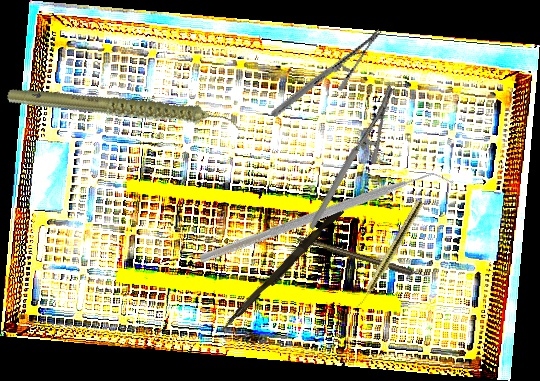Chopper: (197, 86, 456, 356)
Handpiece: (3, 40, 243, 182), (353, 198, 425, 312)
Hook Surgical: (297, 235, 432, 282)
Needle Holder: (273, 84, 428, 230), (269, 3, 384, 143)
Pusher: (219, 203, 345, 337)
